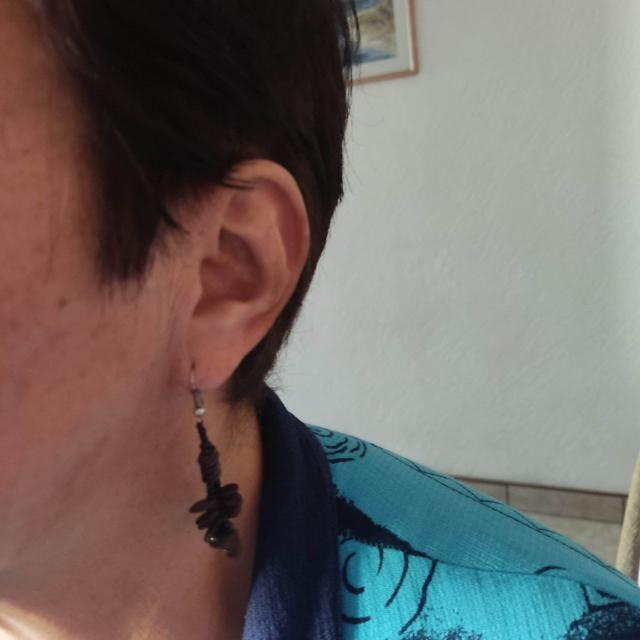ear: (176, 160, 310, 390)
